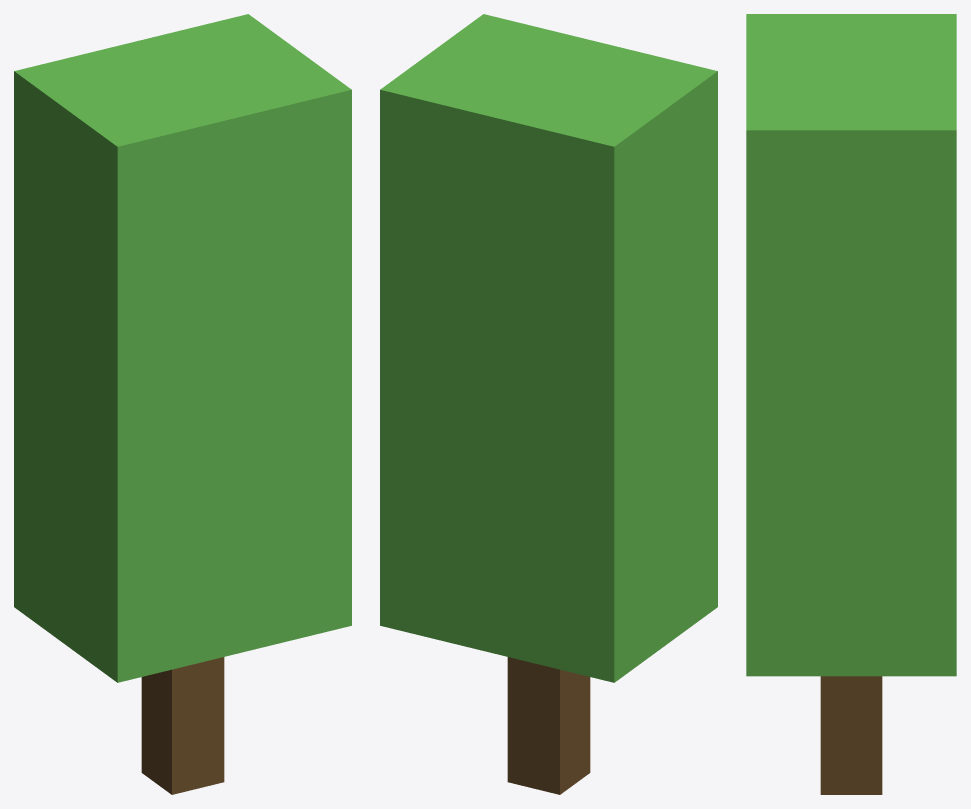
Rendered from Tree_03.fbx.
The picture shows the model from 3 angles, left to right: view 1: azimuth 30°, elevation 25°; view 2: azimuth 150°, elevation 25°; view 3: azimuth 270°, elevation 25°; orthographic projection.
Parts seen in each view (by area): view 1: pCube10, pCube9; view 2: pCube10, pCube9; view 3: pCube10, pCube9.
Boxes of the visible parts, <box> form: pCube10: <box>14,14,351,682</box>; pCube9: <box>141,657,224,794</box>; pCube10: <box>380,14,717,682</box>; pCube9: <box>507,657,590,794</box>; pCube10: <box>746,14,956,676</box>; pCube9: <box>820,676,882,794</box>.
Size of the model in its own units: 1.85 by 5.26 by 1.41.
